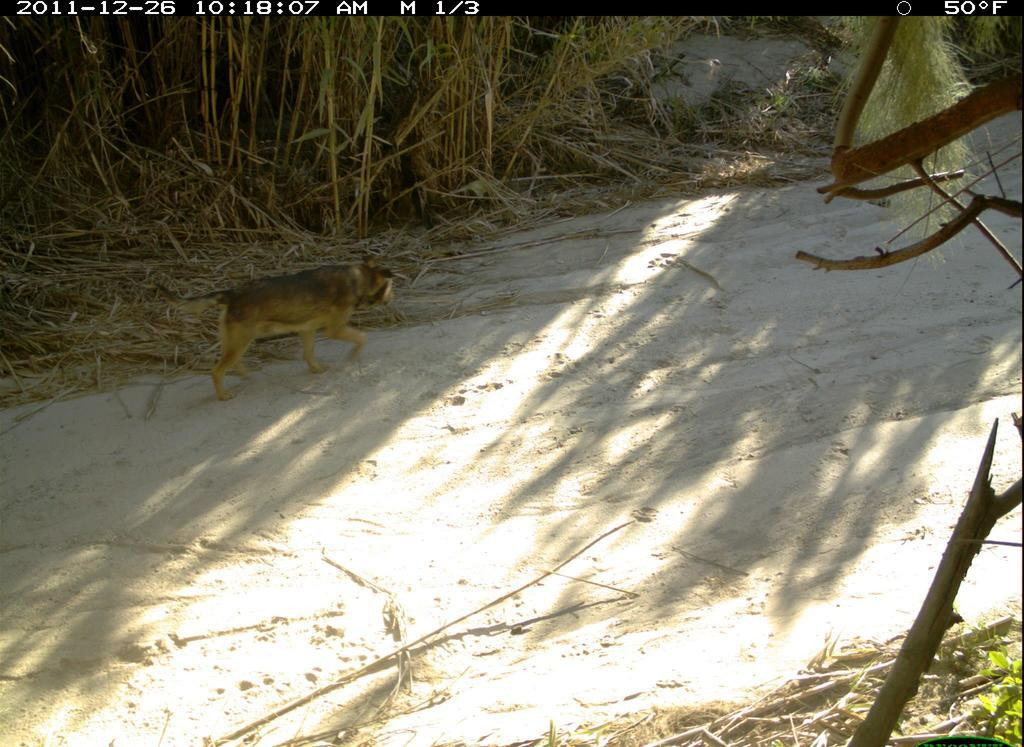dog: (187, 250, 411, 406)
